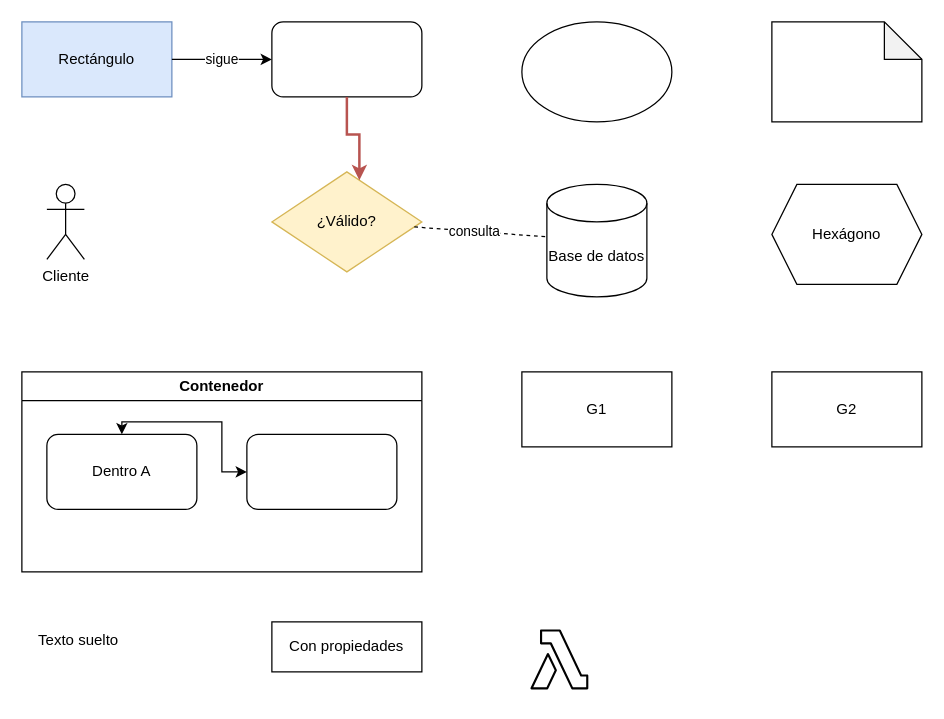
This 944x719 diagram has some shape labels left out. The centre of each missing label's shape, as x and y in pixels:
Dentro B: (x=321, y=471)
Elipse: (x=596, y=71)
Lambda: (x=559, y=659)
Paso dos líneas: (x=346, y=59)
Una nota de dos líneas: (x=846, y=71)
